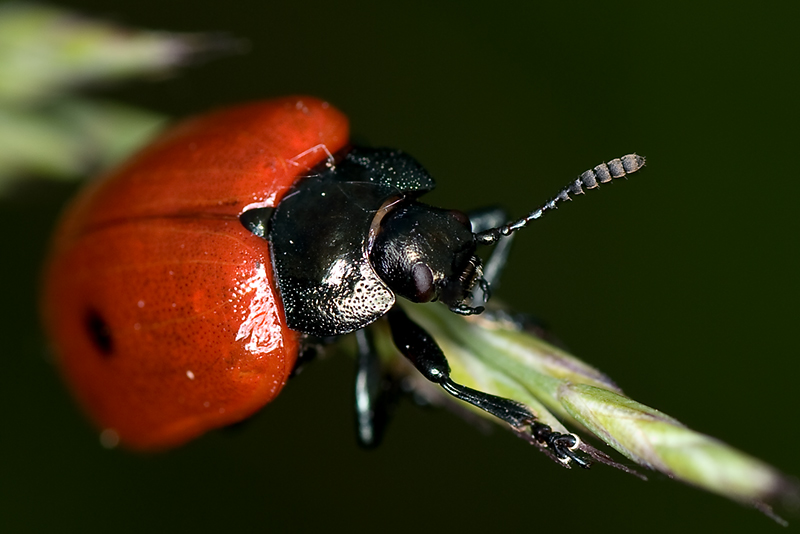Chrysomela_populi: (44, 65, 675, 483)
